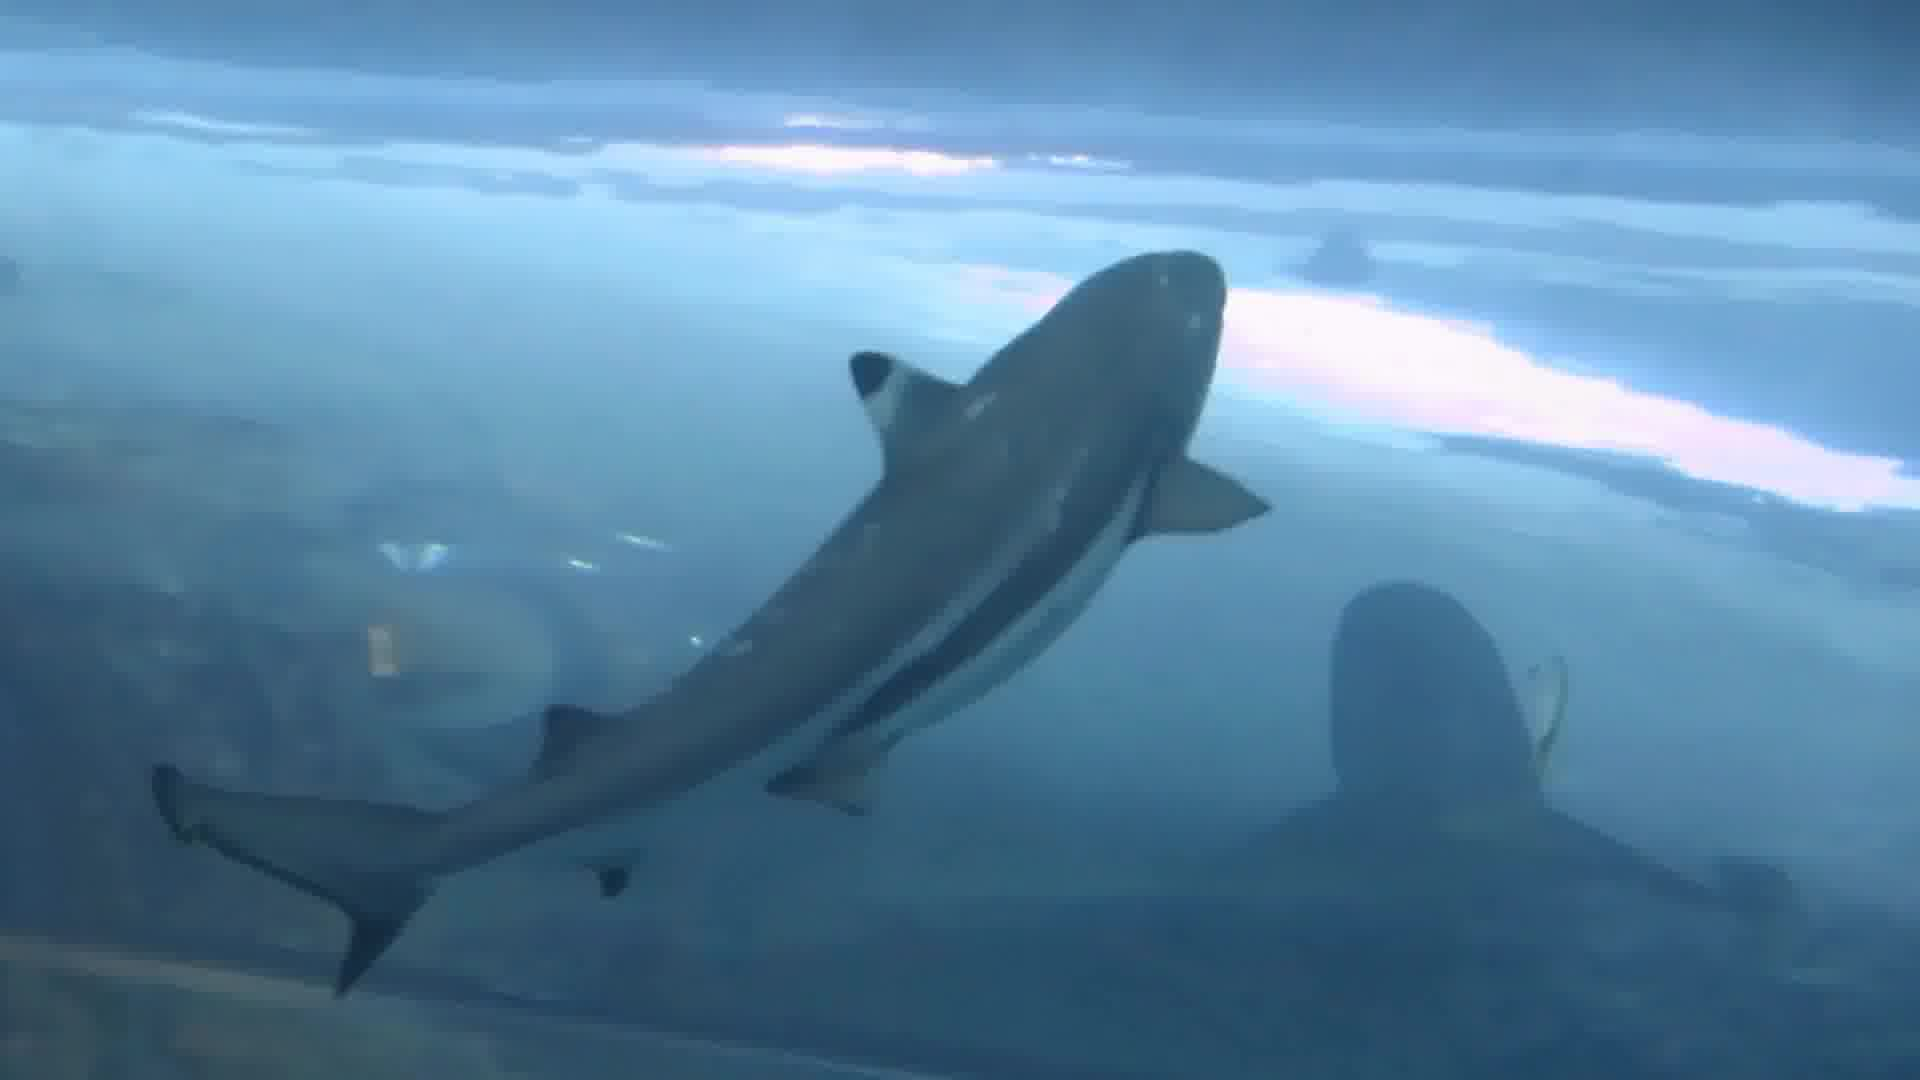Carcharhinus melanopterus: (137, 210, 1282, 996)
